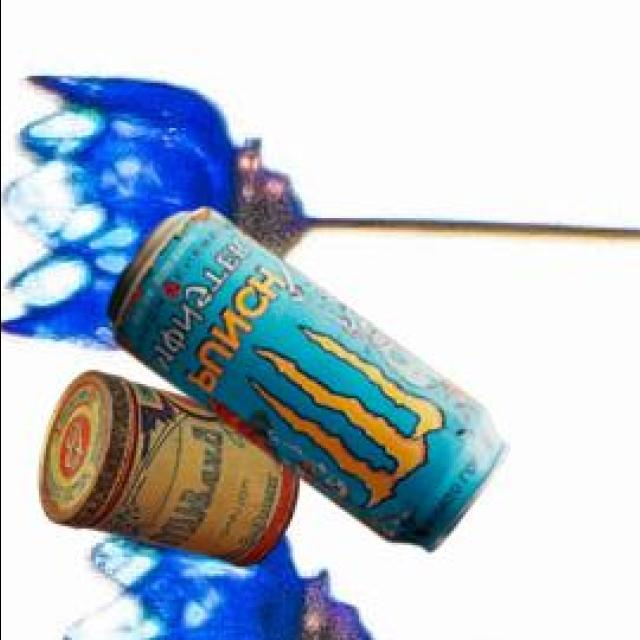logam: (103, 205, 504, 549), (34, 369, 295, 563)
